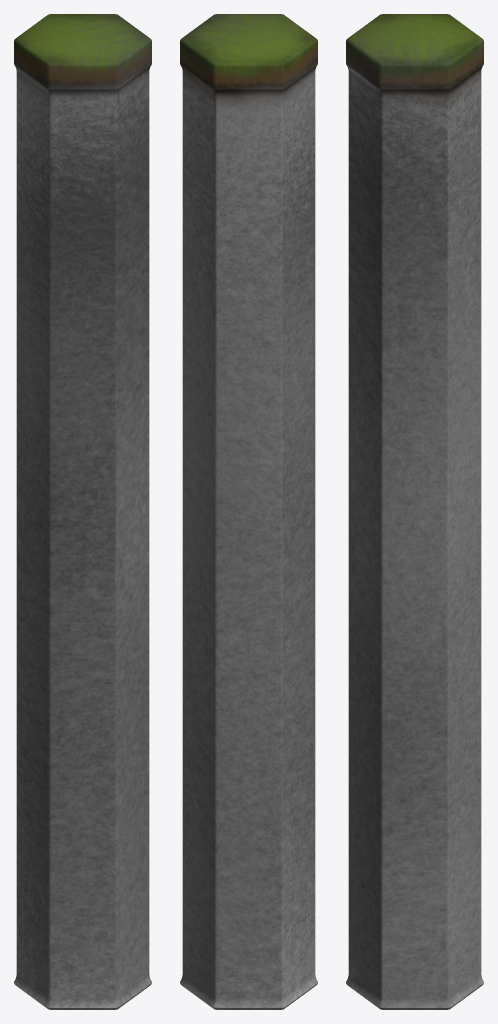
Rendered from Tile_Plaine_Stylised.fbx.
3 views of the same model, side by side, from view 1: azimuth 30°, elevation 25°; view 2: azimuth 150°, elevation 25°; view 3: azimuth 270°, elevation 25° (orthographic).
Parts seen in each view (by area): view 1: Tile_Biome_LP; view 2: Tile_Biome_LP; view 3: Tile_Biome_LP.
Part boxes in pixels (box(x1,y1,x2,y2)): Tile_Biome_LP: box(14, 14, 151, 1009); Tile_Biome_LP: box(180, 14, 317, 1009); Tile_Biome_LP: box(346, 14, 483, 1009).
Size of the model in its own units: 173 by 1493 by 197.
Materials: 1 (1 with a texture image).
